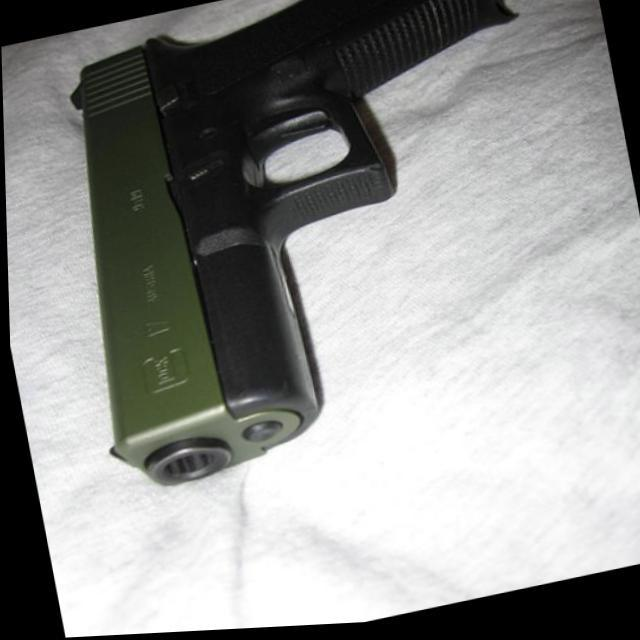weapon: (28, 0, 591, 501)
